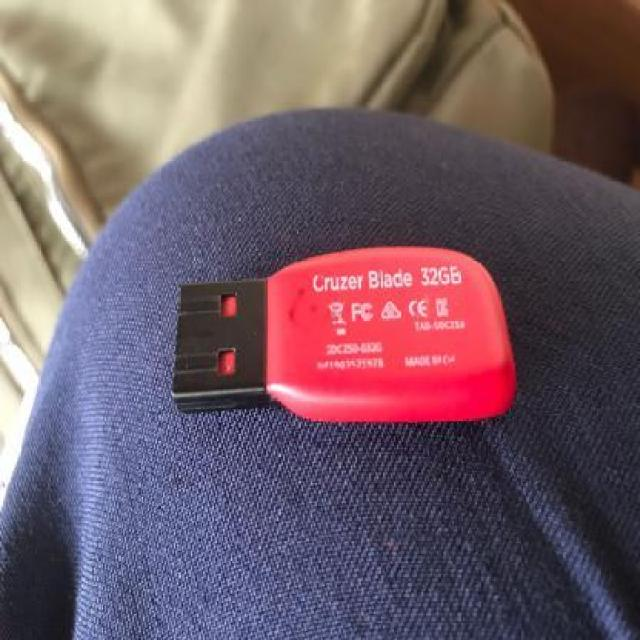Flashdisk: (169, 235, 528, 443)
